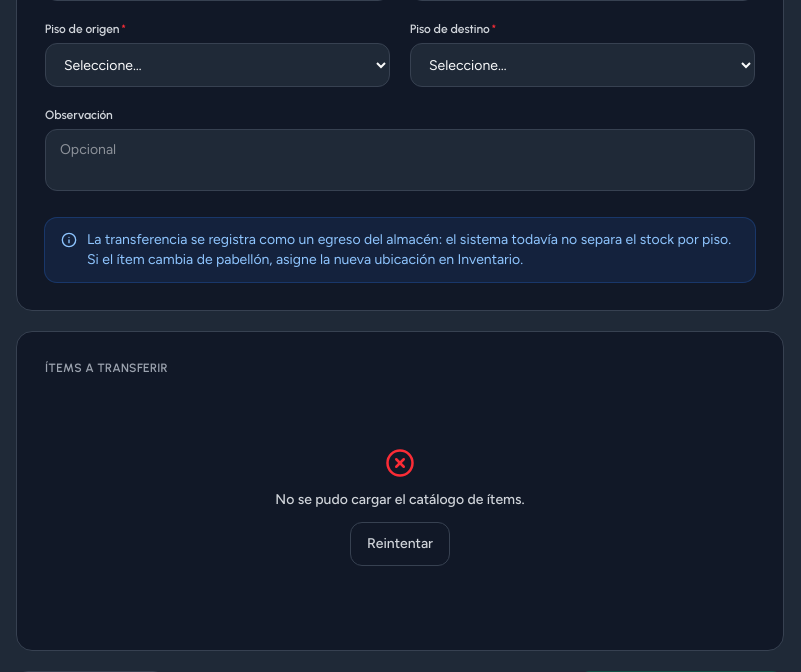
Test: TransferenciaPage — catálogo que no carga › muestra el error y «Reintentar» recupera el formulario
(page scrolled)
Expected: the text "No se pudo cargar el catálogo de ítems." is shown, top-left (275, 490), bottom-right (525, 510)
Expected: the dropdown labelled "ítem 1" is not shown
Click the button "Reintentar". click: (400, 544)
box: top-left (350, 522), bottom-right (450, 566)
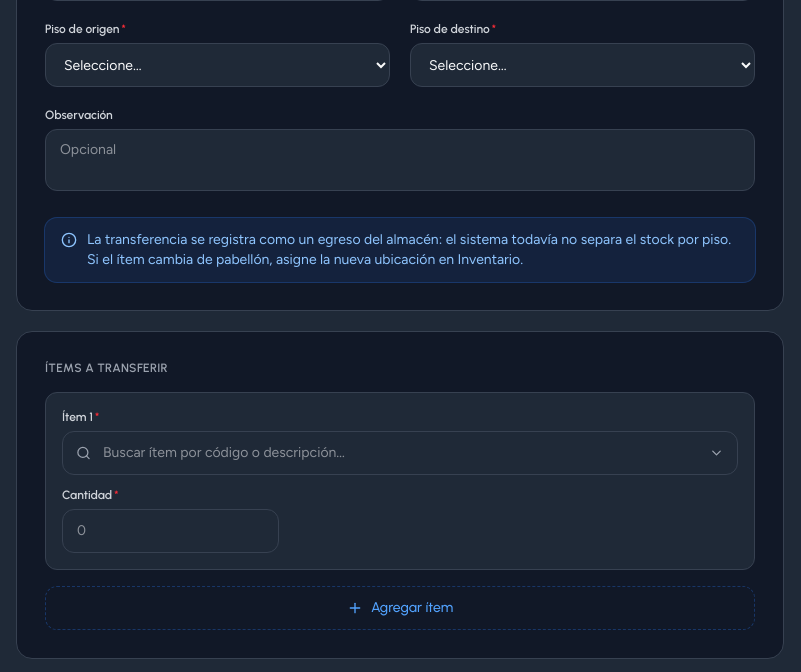
Expected: the dropdown labelled "Ítem 1*" is shown, top-left (62, 431), bottom-right (738, 475)
